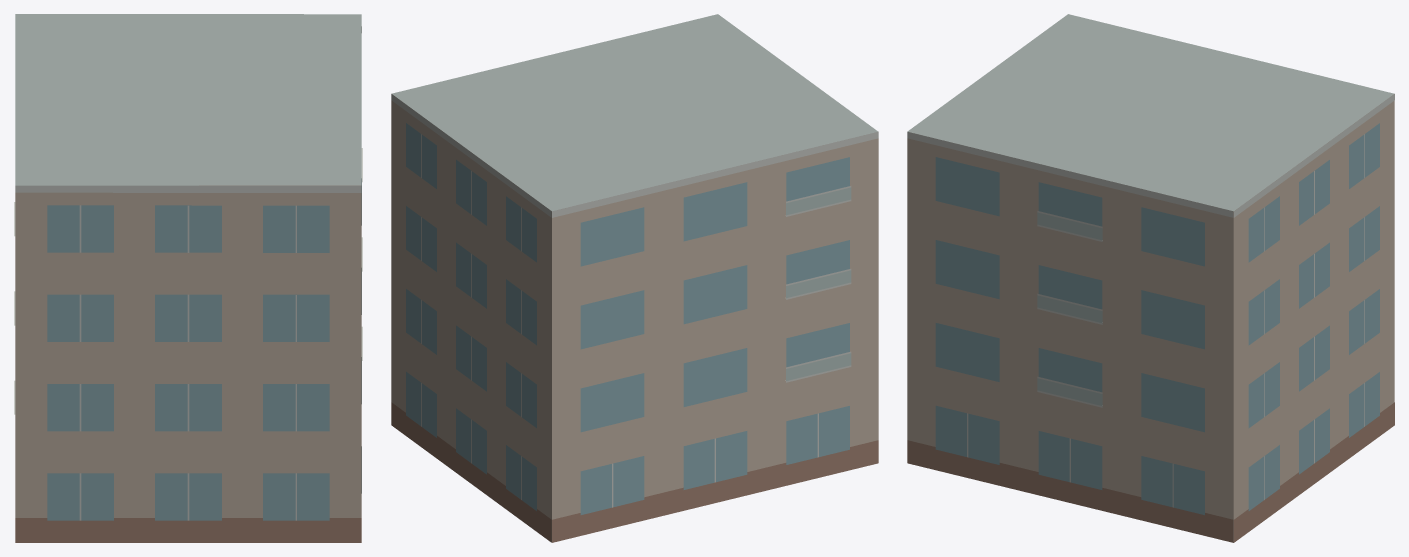
Rendered from residential-d63c3919-4c9e-4e82-9326-88dbd2ee696a.glb.
The picture shows the model from 3 angles, left to right: view 1: azimuth 30°, elevation 25°; view 2: azimuth 150°, elevation 25°; view 3: azimuth 270°, elevation 25°; orthographic projection. The views are drawn at different scales.
Parts seen in each view (by area): view 1: residential-d63c3919-4c9e-4e82-9326-88dbd2ee696a.tmp; view 2: residential-d63c3919-4c9e-4e82-9326-88dbd2ee696a.tmp; view 3: residential-d63c3919-4c9e-4e82-9326-88dbd2ee696a.tmp.
Part boxes in pixels (x1,y1,x2,y2): residential-d63c3919-4c9e-4e82-9326-88dbd2ee696a.tmp: (14, 14, 362, 542); residential-d63c3919-4c9e-4e82-9326-88dbd2ee696a.tmp: (391, 14, 878, 542); residential-d63c3919-4c9e-4e82-9326-88dbd2ee696a.tmp: (907, 14, 1394, 542).
Bounding box in the file's own units: 15.58 × 12.2 × 16.26.
